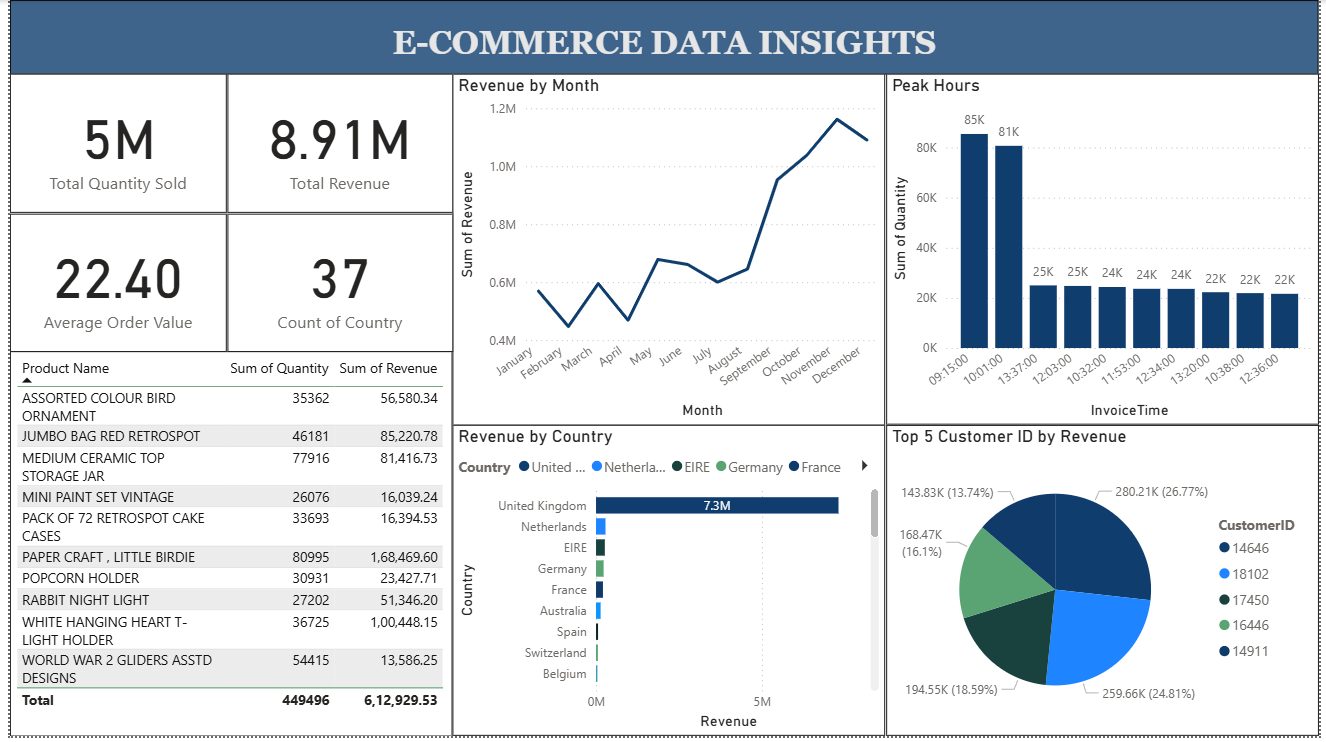

Layout of this report page (visuals, bound fields, positions):
{"tool":"powerbi","page":{"name":"Page 1","canvas":[1280,720],"ordinal":0},"visuals":[{"type":"textbox","box":[0,0,1280.3,72.7],"z":0},{"type":"barChart","title":"Revenue by Country","fields":{"Category":["Online Retail.Country"],"Y":["Sum(Online Retail.Revenue)"],"Series":["Online Retail.Country"]},"box":[433.1,416.2,423.5,304],"z":1000},{"type":"card","fields":{"Values":["Sum(Online Retail.Revenue)"]},"box":[212.3,72.4,220.8,136.3],"z":2000},{"type":"card","fields":{"Values":["Sum(Online Retail.Quantity)"]},"box":[0,72.4,212.3,136.3],"z":3000},{"type":"tableEx","title":" Quantity Sold by Product","fields":{"Values":["Online Retail.Description","Sum(Online Retail.Quantity)","Sum(Online Retail.Revenue)"]},"box":[0,343.8,433.1,376.4],"z":4000},{"type":"clusteredColumnChart","title":"Peak Hours","fields":{"Category":["Online Retail.InvoiceTime"],"Y":["Sum(Online Retail.Quantity)"]},"box":[856.7,72.7,423.3,343.5],"z":5000},{"type":"pieChart","title":"Top 5 Customer ID by Revenue","fields":{"Y":["Sum(Online Retail.Revenue)"],"Category":["Online Retail.CustomerID"]},"box":[856.7,416.2,423.3,303.6],"z":6000},{"type":"lineChart","title":"Revenue by Month","fields":{"Category":["Online Retail.InvoiceDate.Variation.Date Hierarchy.Month","Online Retail.InvoiceDate.Variation.Date Hierarchy.Day"],"Y":["Sum(Online Retail.Revenue)"]},"box":[433.1,72.4,423.5,343.8],"z":7000},{"type":"card","fields":{"Values":["Online Retail.Sum of Revenue divided by Count of InvoiceNo"]},"box":[0,208.7,212.3,135.1],"z":8000},{"type":"card","fields":{"Values":["Count(Online Retail.Country)"]},"box":[212.3,208.7,220.8,135.1],"z":9000}]}

Visuals, with their boxes in screenshot pixels (x1, y1, x2, y2), scaled from the page's 1280x720 canvas onto the 1326x742 screenshot:
textbox: {"x1": 0, "y1": 0, "x2": 1325, "y2": 75}
"Revenue by Country" barChart: {"x1": 449, "y1": 429, "x2": 887, "y2": 741}
card - Sum(Online Retail.Revenue): {"x1": 220, "y1": 75, "x2": 449, "y2": 215}
card - Sum(Online Retail.Quantity): {"x1": 0, "y1": 75, "x2": 220, "y2": 215}
" Quantity Sold by Product" tableEx: {"x1": 0, "y1": 354, "x2": 449, "y2": 741}
"Peak Hours" clusteredColumnChart: {"x1": 887, "y1": 75, "x2": 1325, "y2": 429}
"Top 5 Customer ID by Revenue" pieChart: {"x1": 887, "y1": 429, "x2": 1325, "y2": 741}
"Revenue by Month" lineChart: {"x1": 449, "y1": 75, "x2": 887, "y2": 429}
card - Online Retail.Sum of Revenue divided by Count of InvoiceNo: {"x1": 0, "y1": 215, "x2": 220, "y2": 354}
card - Count(Online Retail.Country): {"x1": 220, "y1": 215, "x2": 449, "y2": 354}
